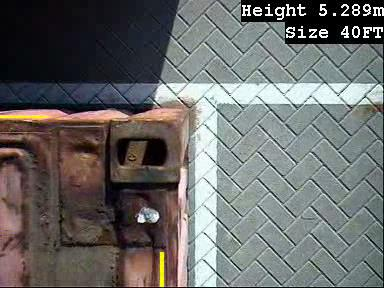groundmarker_2: (103, 145, 165, 192), (103, 10, 164, 57)
